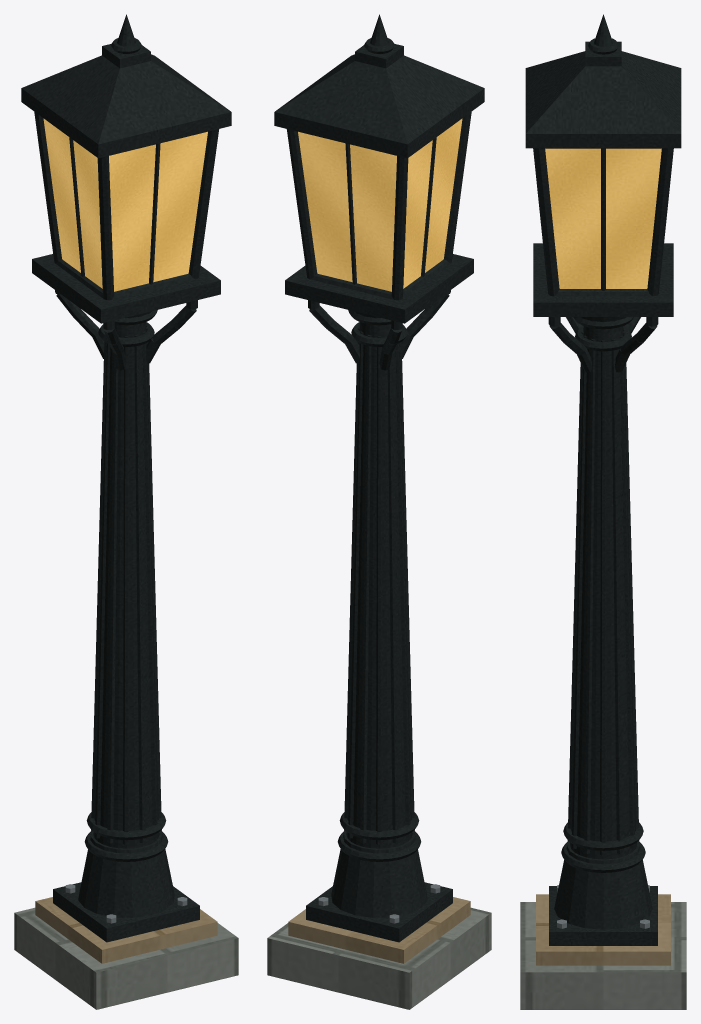
3 renders of one model, left to right at view 1: azimuth 30°, elevation 25°; view 2: azimuth 150°, elevation 25°; view 3: azimuth 270°, elevation 25°, orthographic.
Parts seen in each view (by area): view 1: street-lamp; view 2: street-lamp; view 3: street-lamp.
Part boxes in pixels (box(x1,y1,x2,y2)): street-lamp: box(14, 14, 238, 1009); street-lamp: box(267, 14, 491, 1009); street-lamp: box(520, 14, 686, 1009).
Bounding box in the file's own units: 0.64 × 4.08 × 0.64.
Materials: 5 (5 with a texture image).
